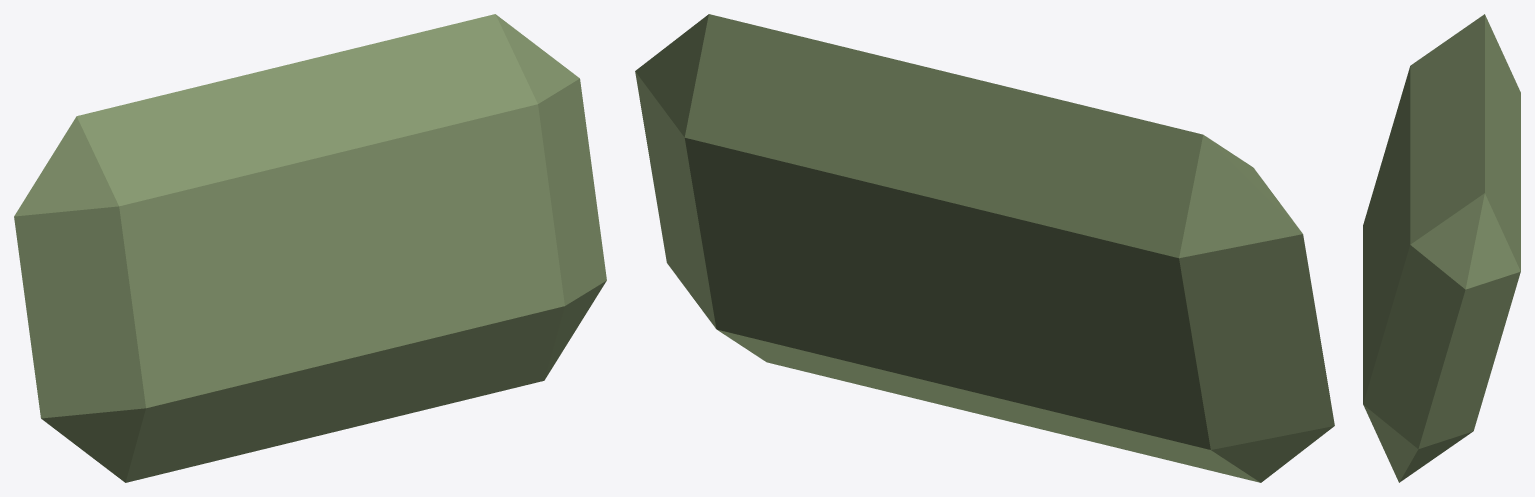
Rendered from kitPillowBlue.glb.
3 views of the same model, side by side, from view 1: azimuth 30°, elevation 25°; view 2: azimuth 150°, elevation 25°; view 3: azimuth 270°, elevation 25° (orthographic). The views are drawn at different scales.
Visible parts, largest first — view 1: kitPillowBlue_fabricAccent; view 2: kitPillowBlue_fabricAccent; view 3: kitPillowBlue_fabricAccent.
Boxes of the visible parts, box(x1,y1,x2,y2) form: kitPillowBlue_fabricAccent: box(14, 14, 606, 482); kitPillowBlue_fabricAccent: box(635, 14, 1334, 482); kitPillowBlue_fabricAccent: box(1363, 14, 1520, 482).
Bounding box in the file's own units: 0.46 × 0.257 × 0.1268.
